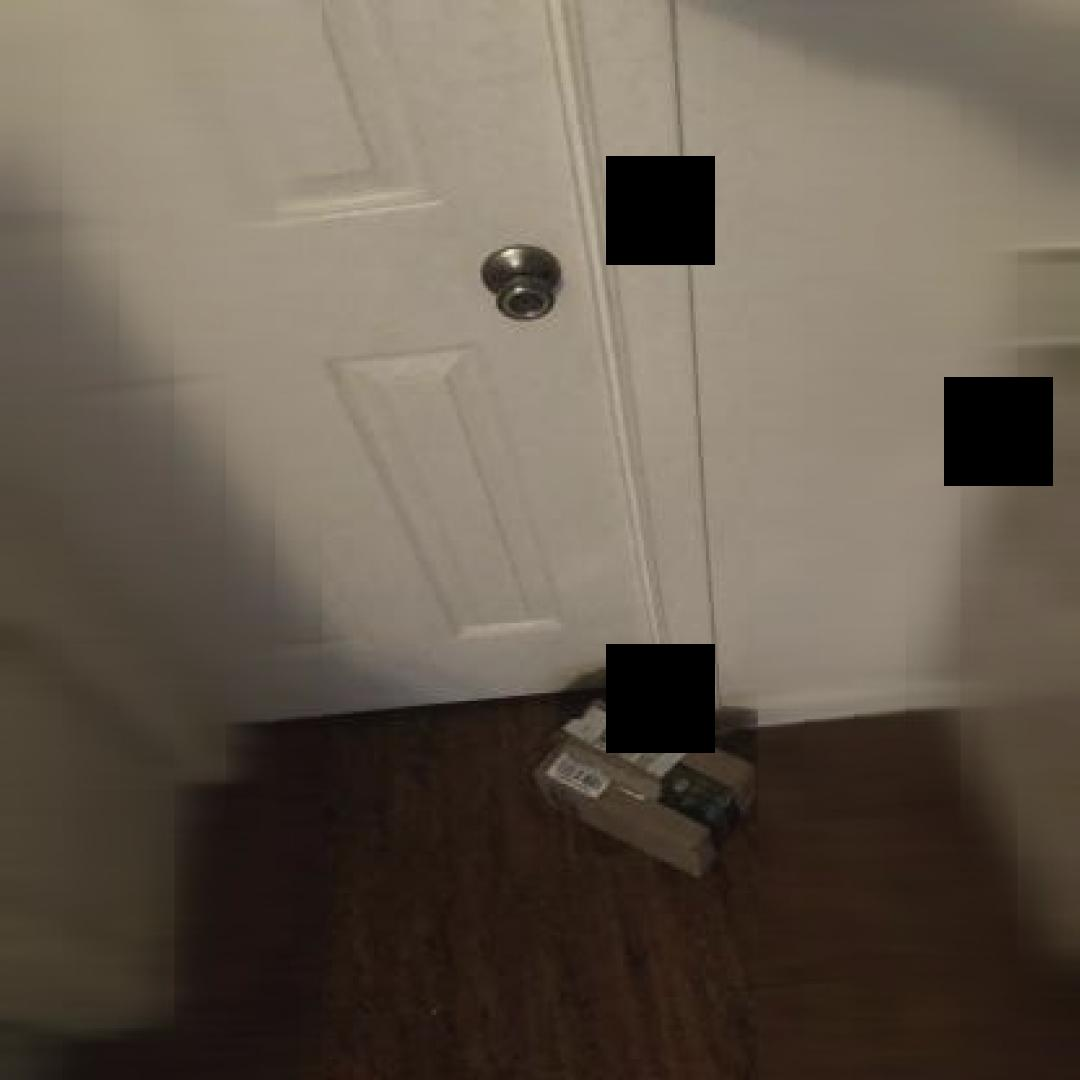package: (527, 693, 763, 885)
